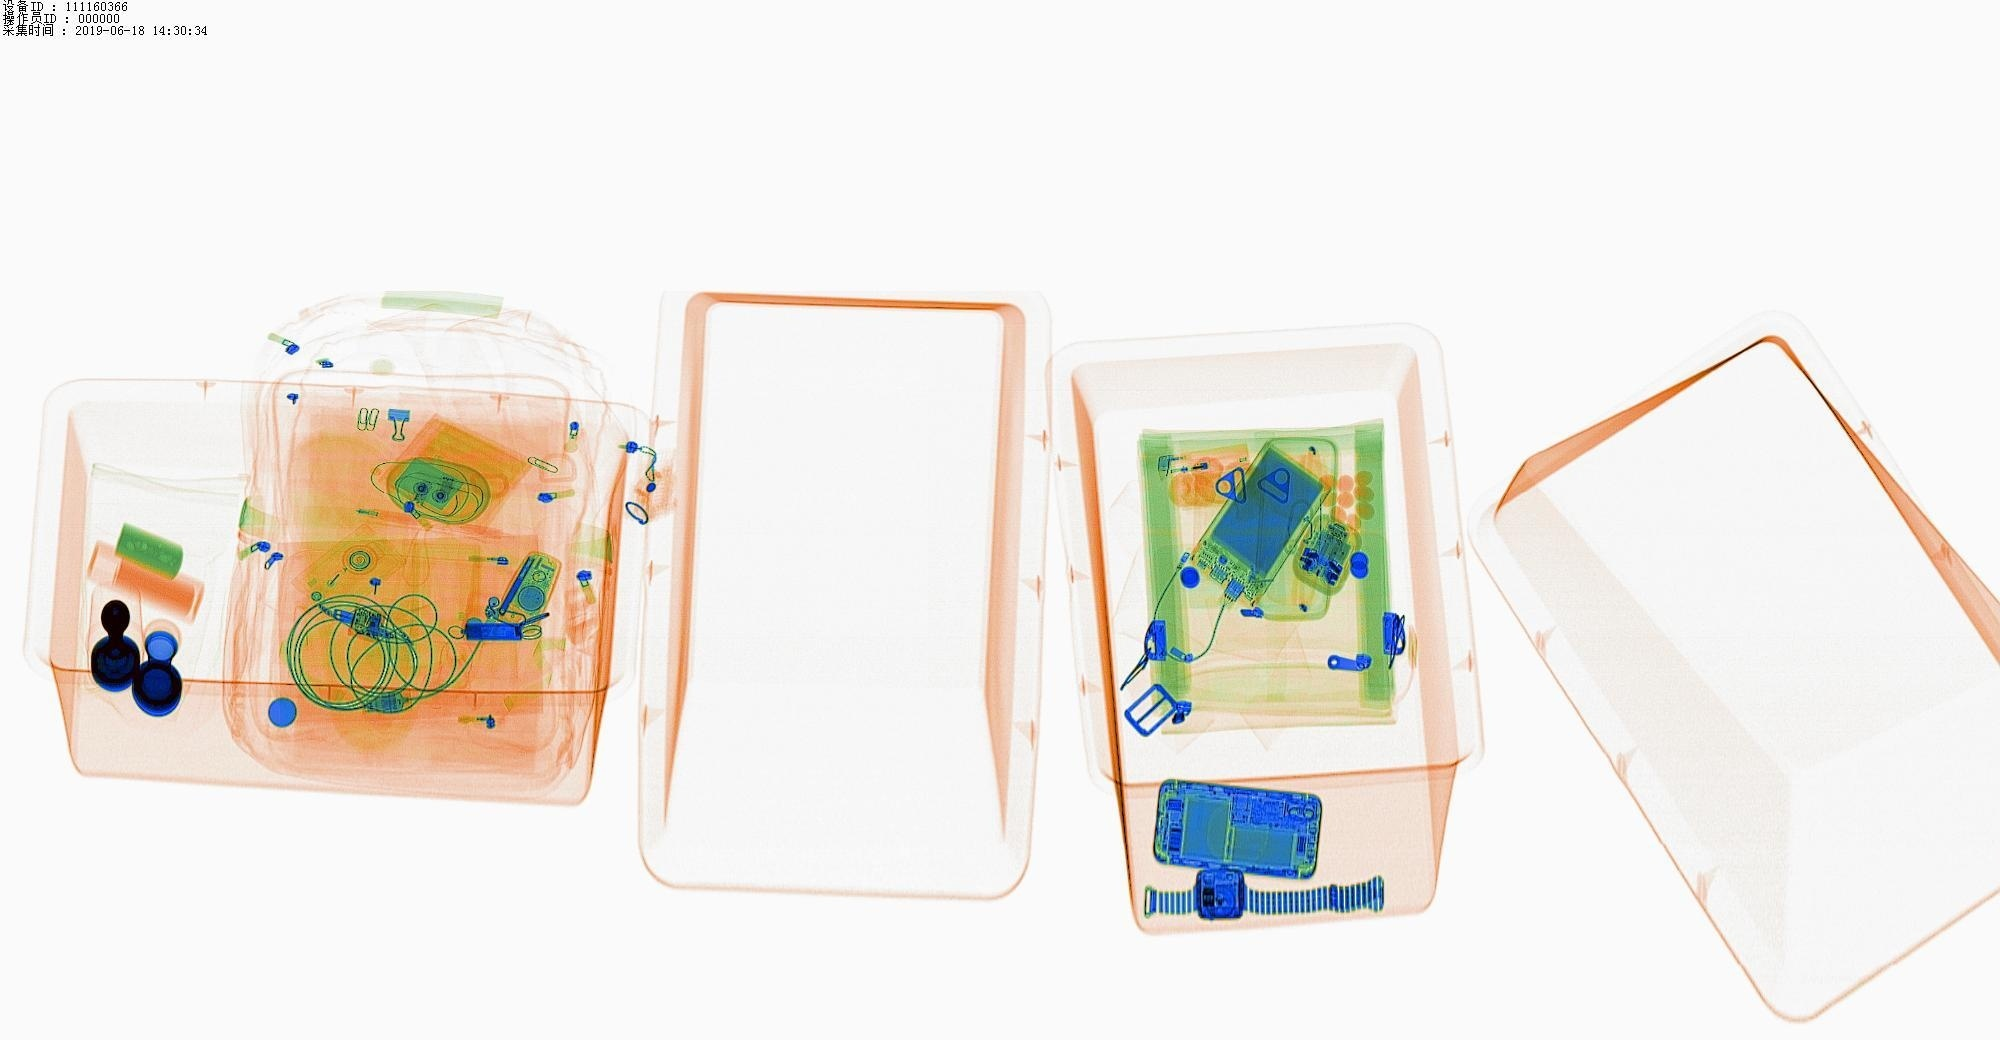NonmetallicFire: (1149, 415, 1282, 496)
